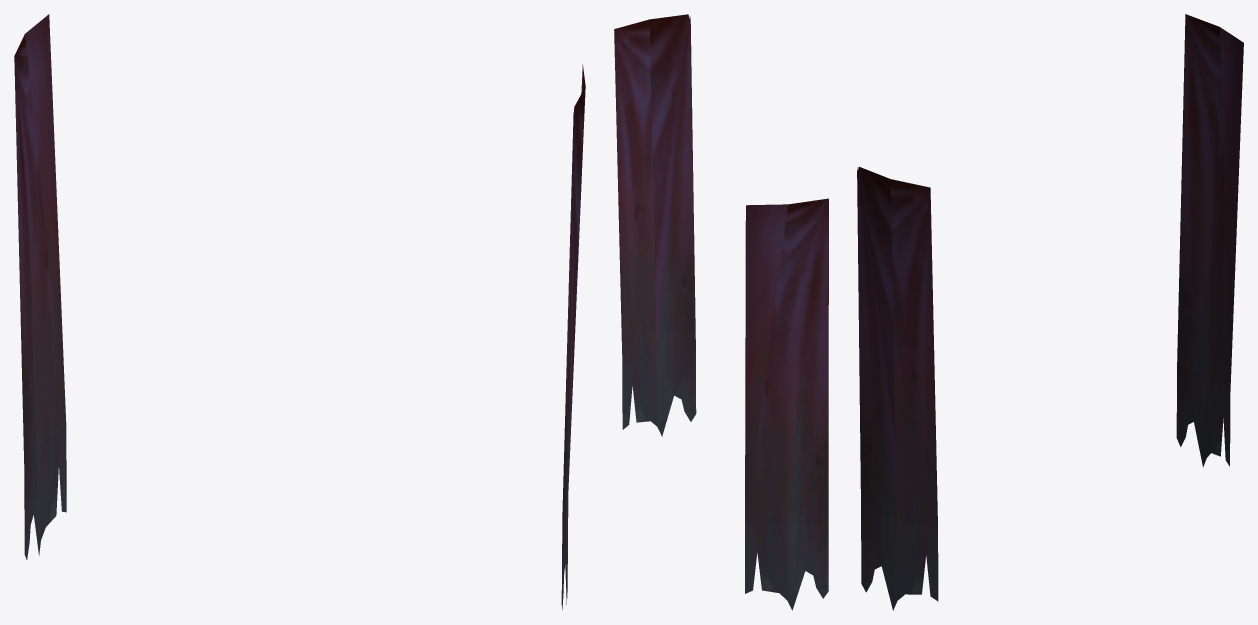
The model's file is MapObject_17.FBX.
The picture shows the model from 3 angles, left to right: view 1: azimuth 30°, elevation 25°; view 2: azimuth 150°, elevation 25°; view 3: azimuth 270°, elevation 25°; orthographic projection. The views are drawn at different scales.
Parts seen in each view (by area): view 1: polySurfaceMapGeoMesh187; view 2: polySurfaceMapGeoMesh187; view 3: polySurfaceMapGeoMesh187.
Boxes of the visible parts, <box> form: polySurfaceMapGeoMesh187: <box>14,14,585,609</box>; polySurfaceMapGeoMesh187: <box>614,14,828,610</box>; polySurfaceMapGeoMesh187: <box>857,14,1243,610</box>.
Bounding box in the file's own units: 458 × 540 × 431.
